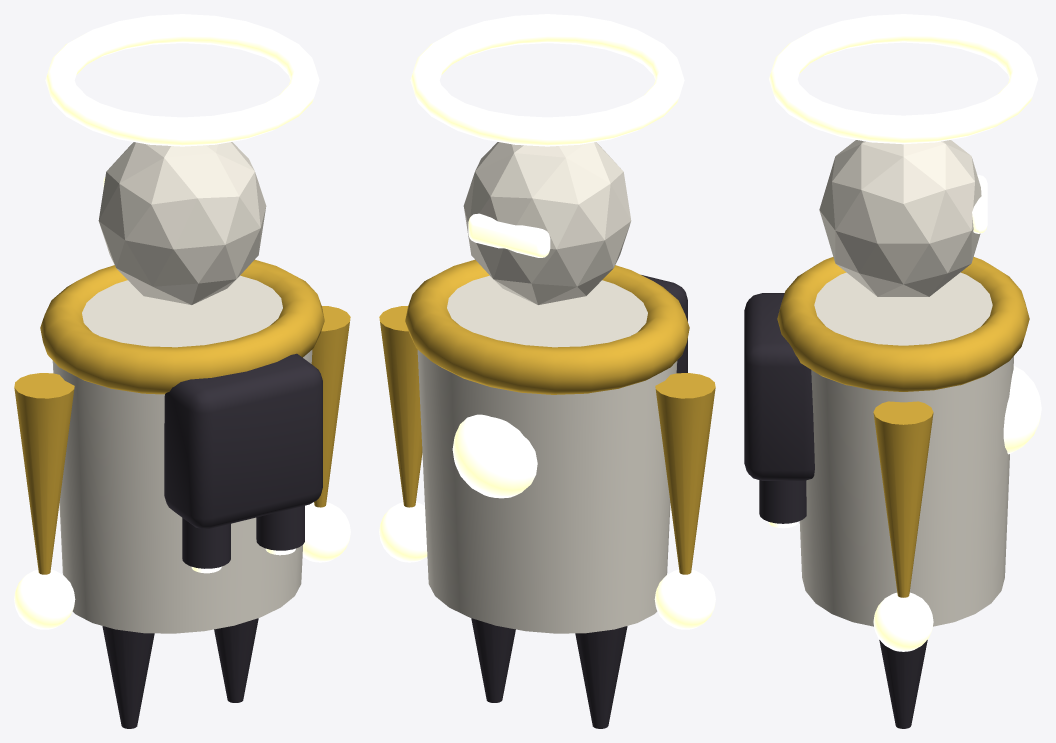
Rendered from robot_siphon.glb.
The picture shows the model from 3 angles, left to right: view 1: azimuth 30°, elevation 25°; view 2: azimuth 150°, elevation 25°; view 3: azimuth 270°, elevation 25°; orthographic projection.
Parts seen in each view (by area): view 1: Torso, Thruster, Head, Halo, Collar, ArmL, ArmR, LegL, OrbL, LegR, OrbR, Nozzle0 (+1 smaller); view 2: Torso, Head, Collar, Halo, ArmL, Core, ArmR, LegL, OrbL, OrbR, LegR, Eye (+1 smaller); view 3: Torso, Head, Halo, Collar, Thruster, ArmR, OrbR, LegR, Core, Nozzle1, Eye.
Part boxes in pixels (x1,y1,x2,y2): Torso: (52, 275, 312, 633); Thruster: (164, 353, 322, 528); Head: (98, 142, 266, 304); Halo: (45, 14, 319, 146); Collar: (40, 260, 324, 394); ArmL: (14, 373, 74, 574); ArmR: (311, 306, 350, 507); LegL: (102, 626, 154, 728); OrbL: (14, 569, 75, 629); LegR: (214, 618, 258, 702); OrbR: (302, 502, 350, 562); Nozzle0: (182, 518, 230, 568); Torso: (417, 275, 677, 633); Head: (463, 142, 631, 304); Collar: (405, 260, 689, 394); Halo: (410, 14, 684, 146); ArmL: (655, 373, 715, 574); Core: (452, 414, 537, 498); ArmR: (379, 306, 422, 507); LegL: (575, 626, 627, 728); OrbL: (654, 569, 715, 629); OrbR: (379, 502, 427, 562); LegR: (471, 618, 515, 702); Eye: (468, 213, 550, 257); Torso: (799, 272, 1013, 626); Head: (819, 140, 981, 296); Halo: (769, 14, 1037, 144); Collar: (777, 257, 1029, 391); Thruster: (744, 293, 814, 480); ArmR: (873, 401, 933, 597); OrbR: (873, 592, 933, 651); LegR: (879, 640, 927, 728); Core: (1003, 366, 1041, 454); Nozzle1: (759, 480, 806, 523); Eye: (972, 174, 987, 233).
Size of the model in its own units: 1.24 by 2.33 by 0.99.
